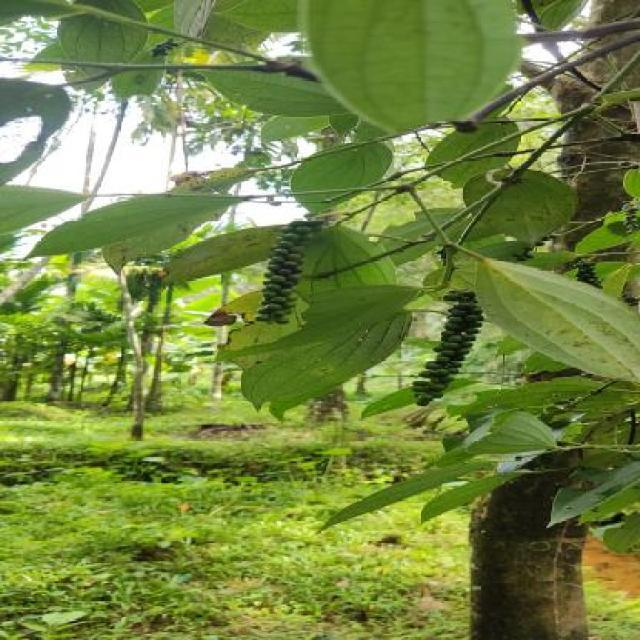UNRIPE: (411, 289, 482, 406), (257, 220, 321, 323), (566, 262, 599, 288), (614, 200, 638, 231), (149, 38, 177, 54)
